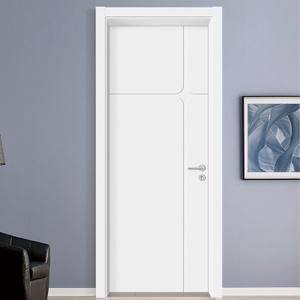door: (109, 22, 211, 295)
